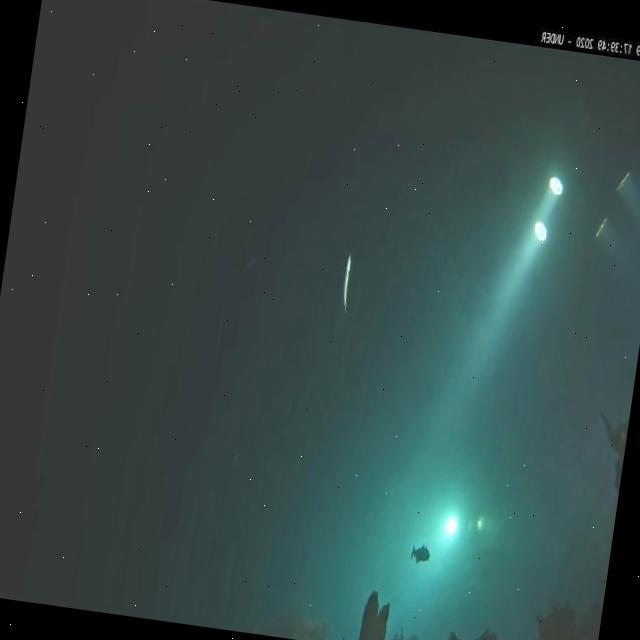fish: (333, 247, 359, 321), (405, 540, 433, 570)
